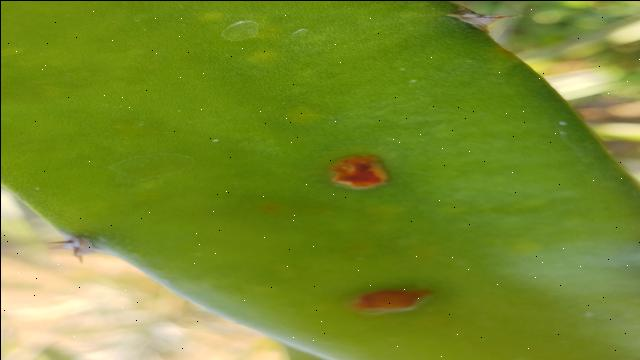stemcanker: (342, 283, 435, 320), (322, 150, 396, 195)
